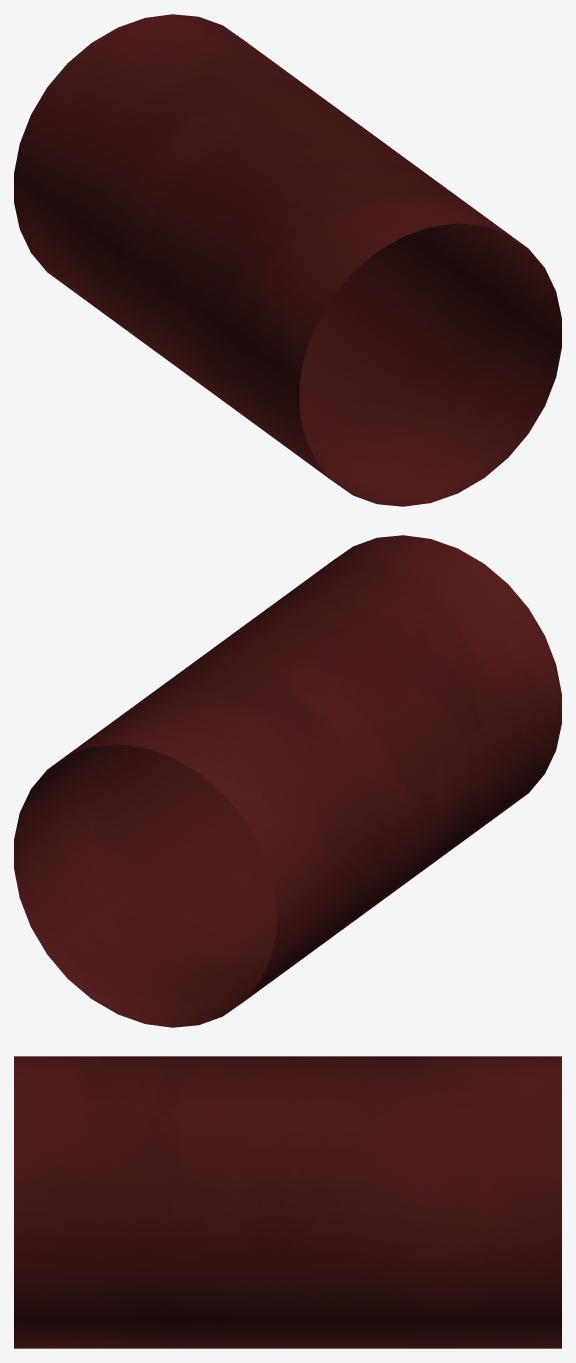
File: Module_base.FBX
3 renders of one model, top to bottom at view 1: azimuth 30°, elevation 25°; view 2: azimuth 150°, elevation 25°; view 3: azimuth 270°, elevation 25°, orthographic. The views are drawn at different scales.
Visible parts, largest first — view 1: Module_base; view 2: Module_base; view 3: Module_base.
Part boxes in pixels (box(x1,y1,x2,y2)): Module_base: box(14, 14, 561, 506); Module_base: box(14, 535, 561, 1027); Module_base: box(14, 1056, 561, 1348).
Bounding box in the file's own units: 39.78 × 40 × 75.
